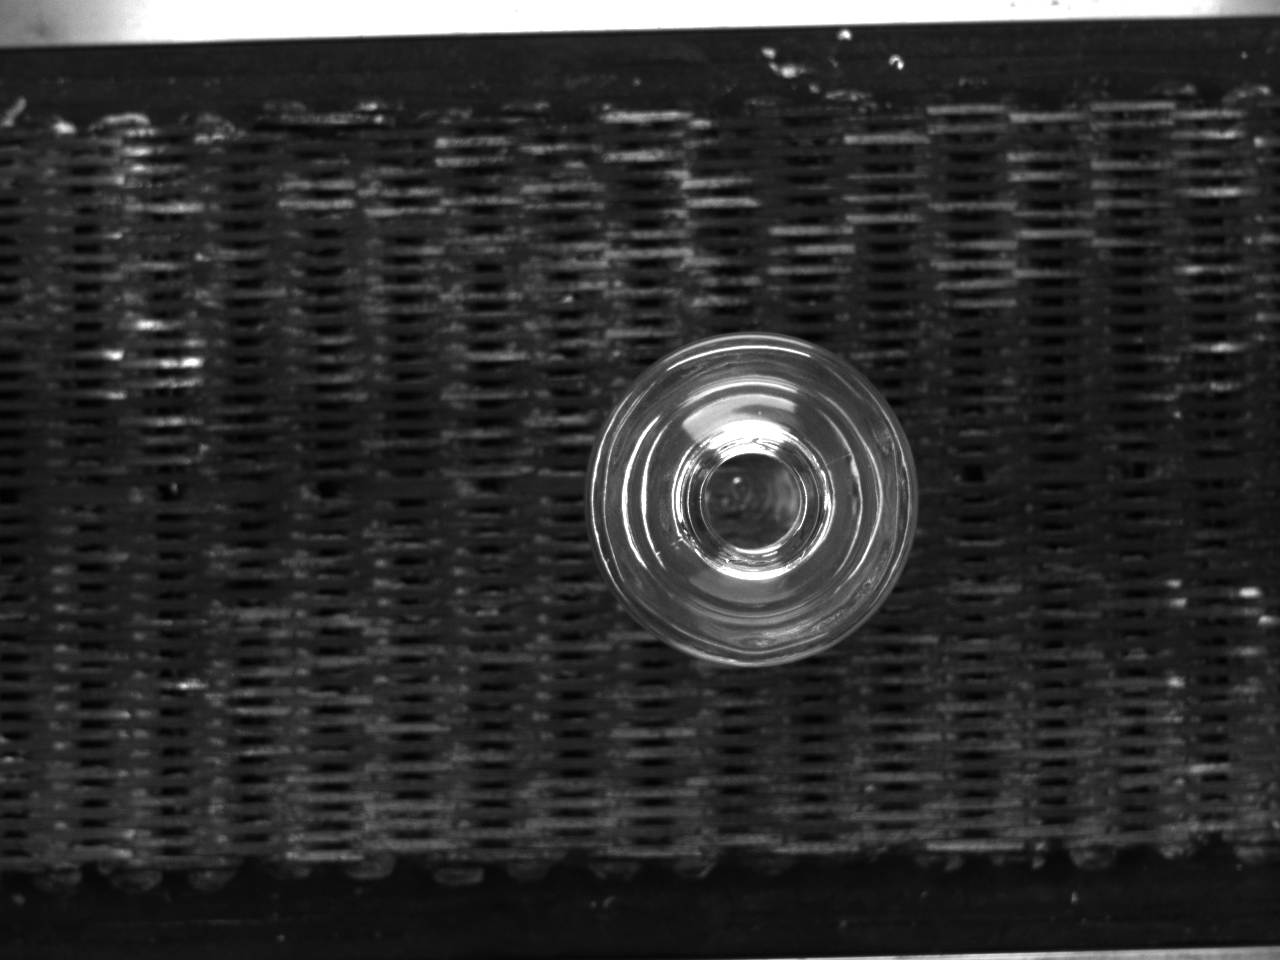bottleneck: (675, 421, 837, 583)
